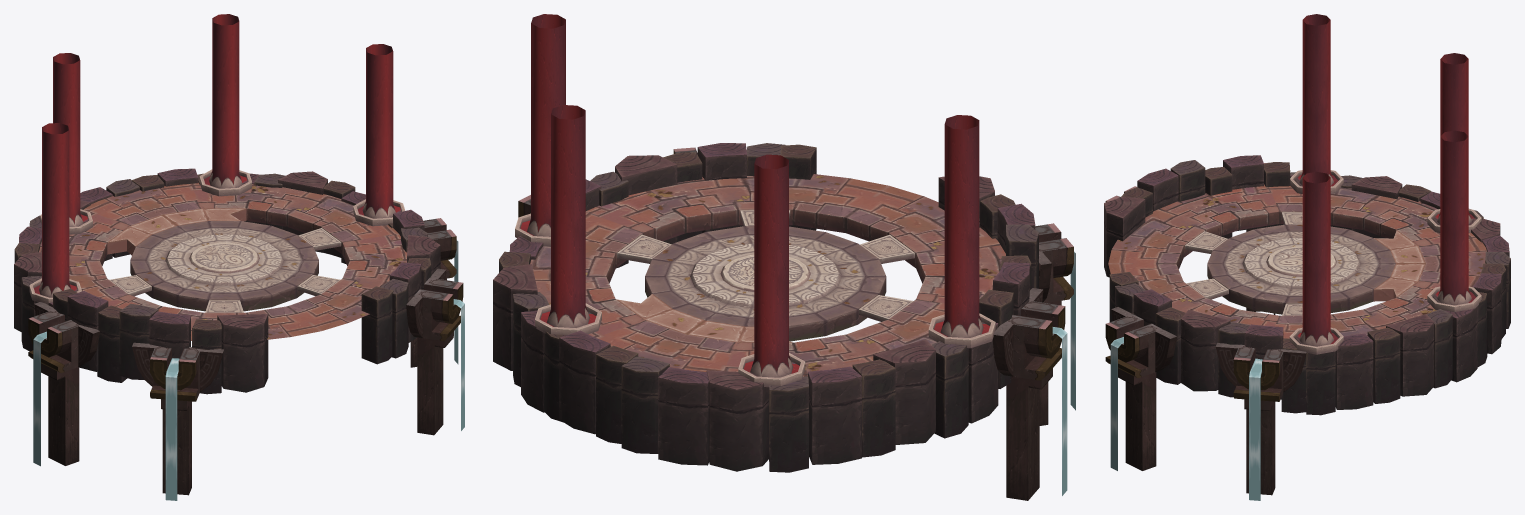
The model's file is tushuizhu01.FBX.
3 renders of one model, left to right at view 1: azimuth 30°, elevation 25°; view 2: azimuth 150°, elevation 25°; view 3: azimuth 270°, elevation 25°, orthographic. The views are drawn at different scales.
Parts seen in each view (by area): view 1: shuiguandapingtai, shuiguandapingtai2_ncl1_1, shuiguandapingtai2, tushuizhu_ncl1_1, tushuizhu, tushuizhu_ncl1_3, tushuizhu_ncl1_2; view 2: shuiguandapingtai2_ncl1_1, shuiguandapingtai, shuiguandapingtai2, tushuizhu_ncl1_1, tushuizhu; view 3: shuiguandapingtai, shuiguandapingtai2_ncl1_1, shuiguandapingtai2, tushuizhu_ncl1_3, tushuizhu_ncl1_2.
Boxes of the visible parts, x1,y1,x2,y2 form: shuiguandapingtai: (39,182,406,340); shuiguandapingtai2_ncl1_1: (14,168,440,394); shuiguandapingtai2: (29,14,405,304); tushuizhu_ncl1_1: (28,302,100,466); tushuizhu: (132,342,224,500); tushuizhu_ncl1_3: (406,268,464,435); tushuizhu_ncl1_2: (410,218,458,367); shuiguandapingtai2_ncl1_1: (493,143,1038,472); shuiguandapingtai: (530,174,1005,378); shuiguandapingtai2: (515,14,995,387); tushuizhu_ncl1_1: (992,288,1067,500); tushuizhu: (1035,223,1075,425); shuiguandapingtai: (1108,184,1487,340); shuiguandapingtai2_ncl1_1: (1104,155,1510,415); shuiguandapingtai2: (1289,14,1481,354); tushuizhu_ncl1_3: (1105,307,1177,470); tushuizhu_ncl1_2: (1215,343,1306,500).
Size of the model in its own units: 5871 by 4927 by 4075.
